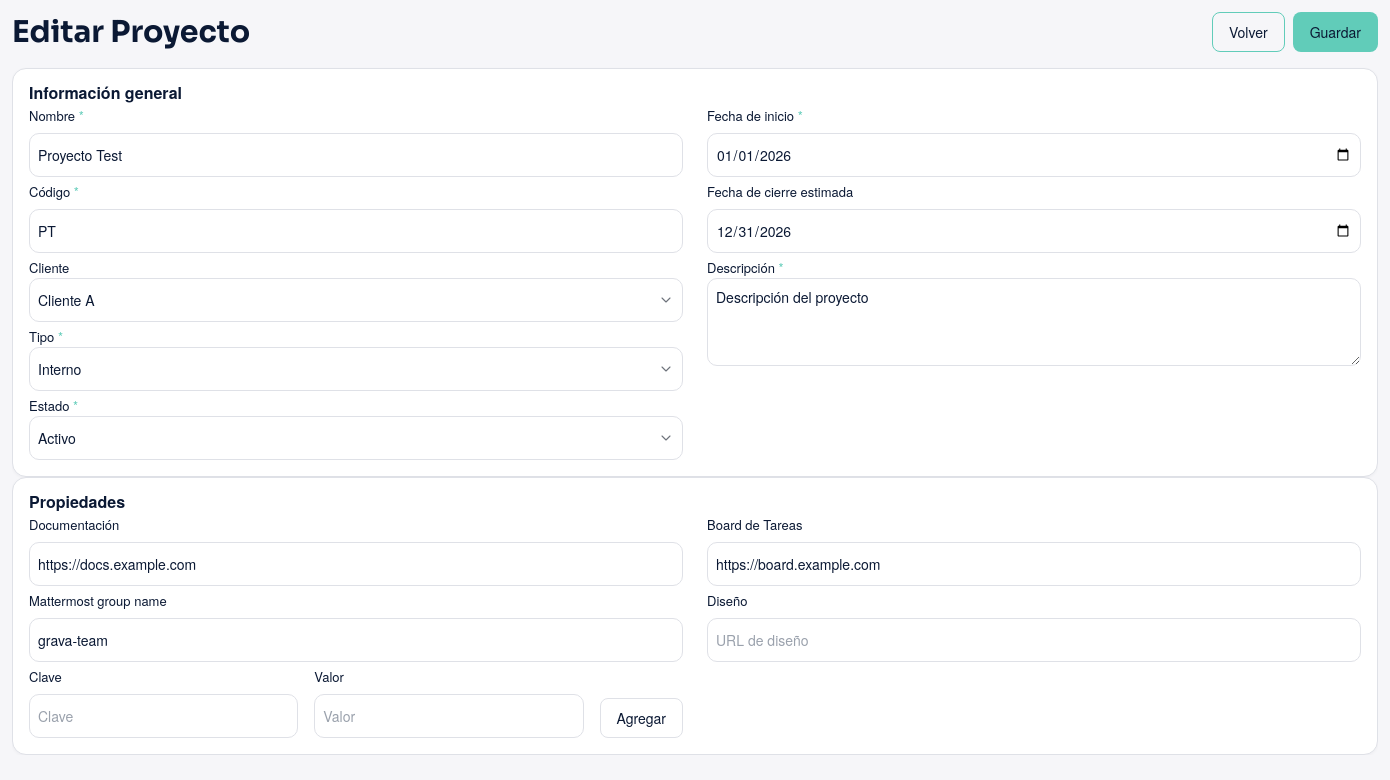
Test case: ProjectEditForm — migración al Design System (S-056) › TS-8 (edit): agregar propiedad dinámica no dispara el submit
Expected: the heading "Información general" is shown, [29, 81, 182, 104]
Type "repo" into the field labelled "Clave". click: {"x": 164, "y": 716}
box: [29, 694, 298, 738]
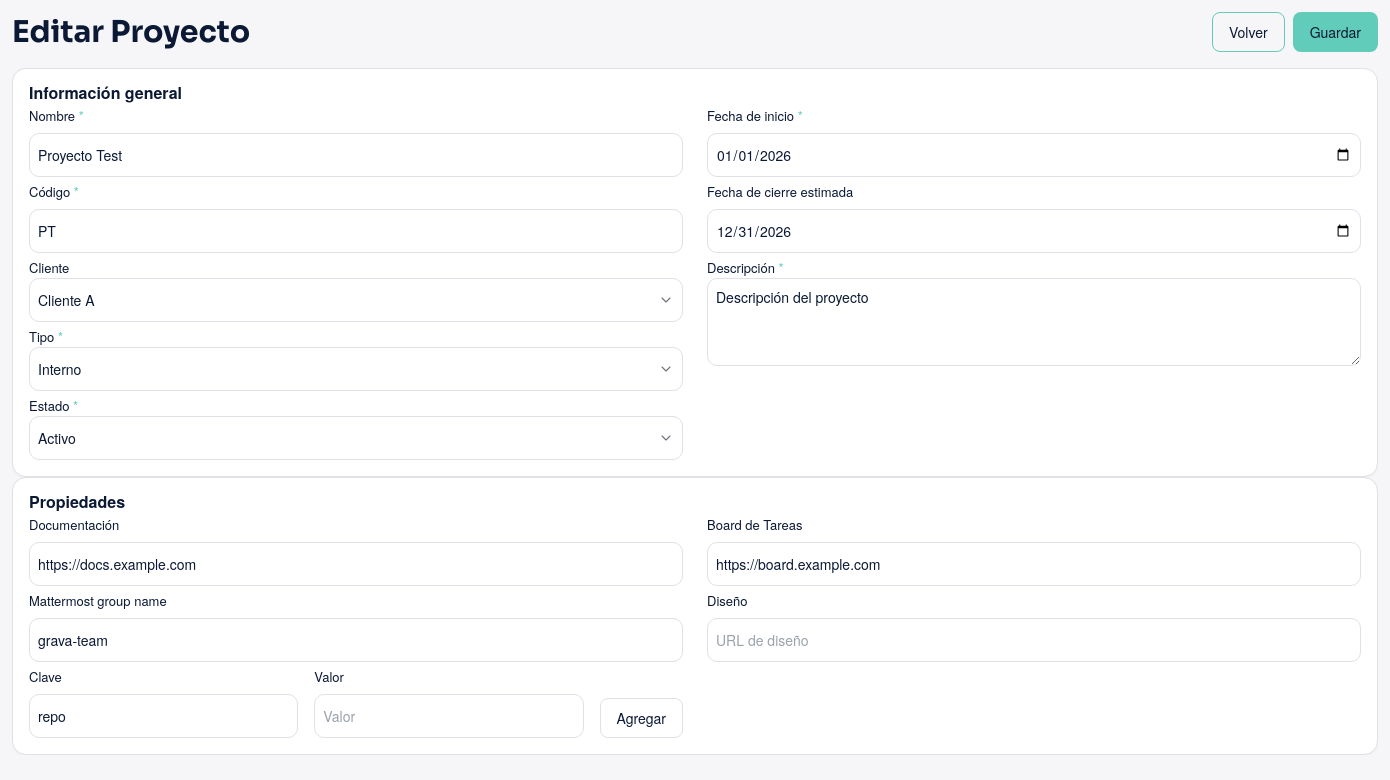
Type "https://github.com/x" into the field labelled "Valor". click: {"x": 449, "y": 716}
box: [314, 694, 584, 738]
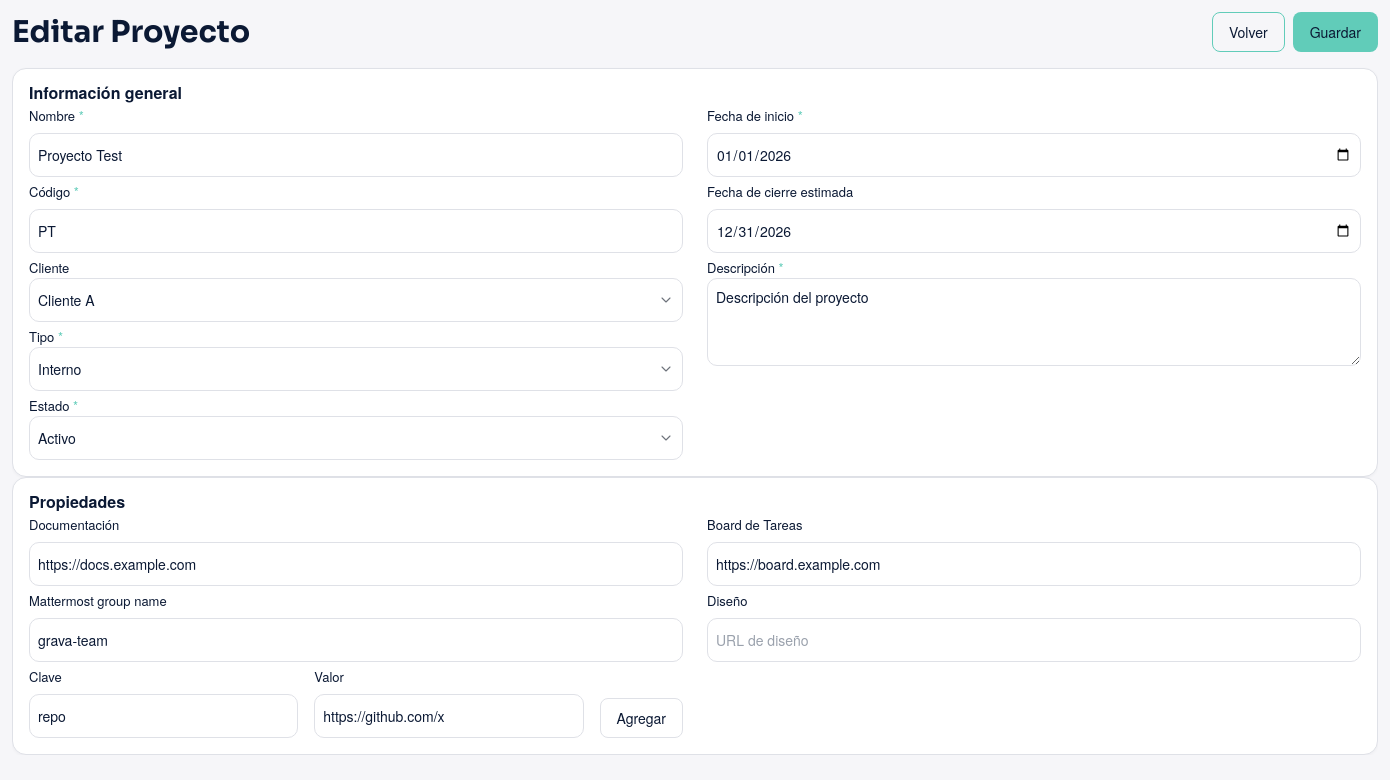
Click the button "Agregar". click: {"x": 641, "y": 718}
box: [600, 698, 683, 738]
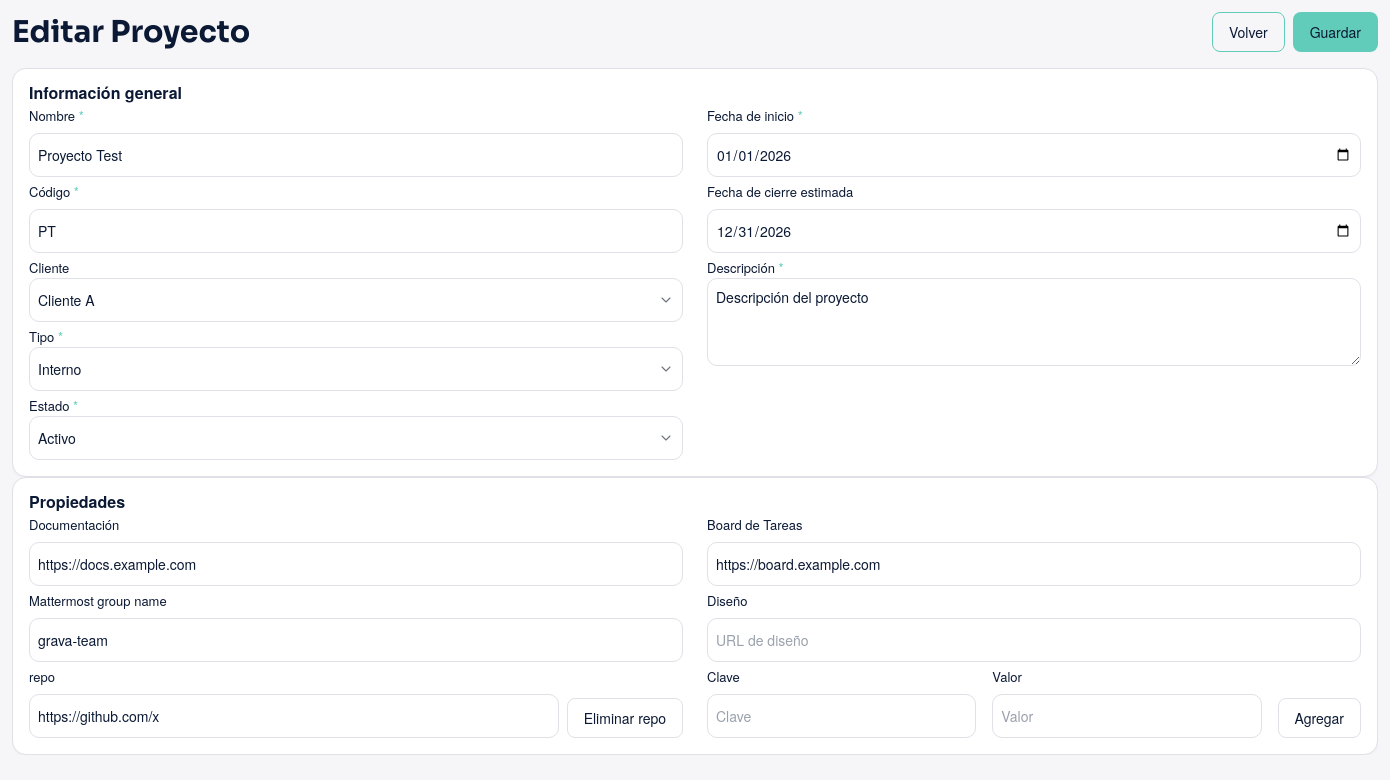
Now the field labelled "repo" is shown, box [29, 694, 559, 738]
